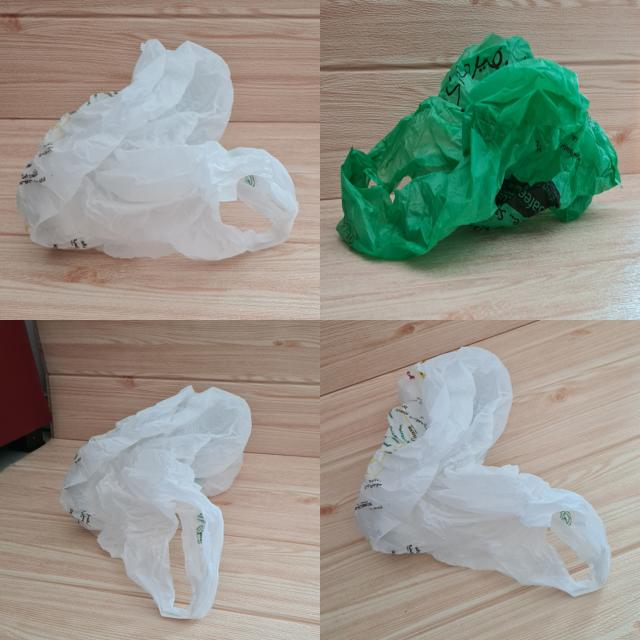Single-layer Plastic: (336, 35, 620, 260), (355, 348, 610, 596), (16, 40, 298, 260), (60, 386, 251, 619)
